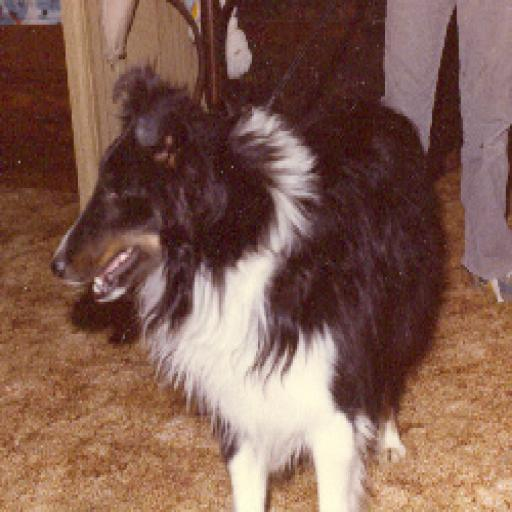dog_face: (47, 72, 229, 319)
